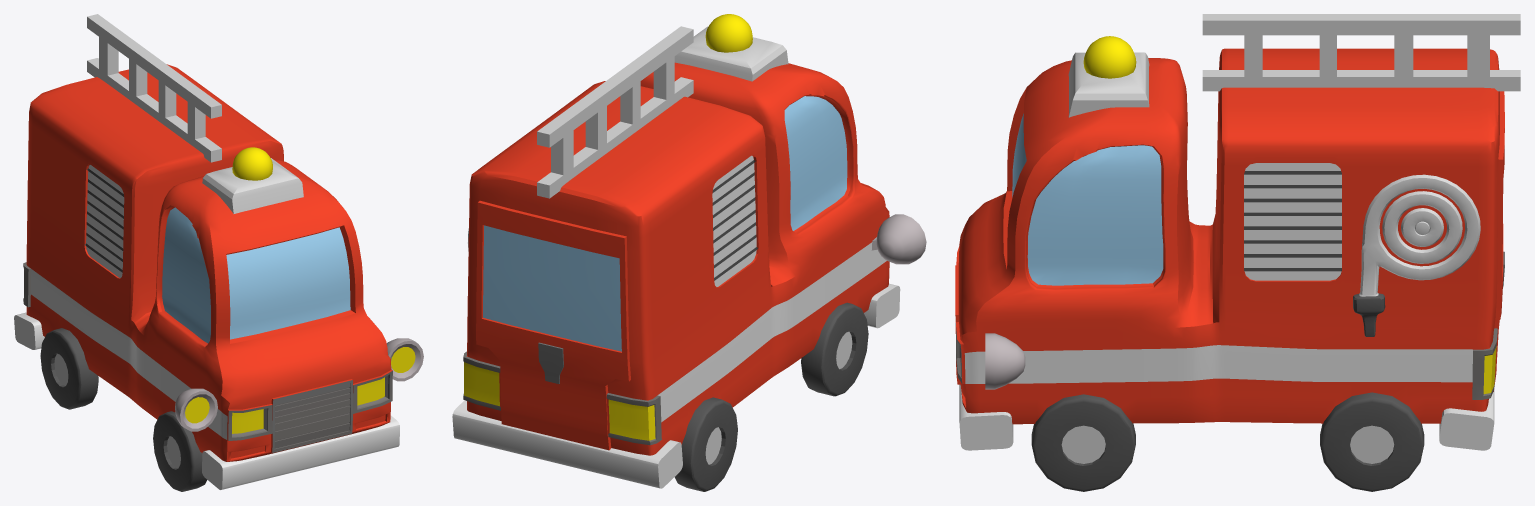
Rendered from pojarni.glb.
3 views of the same model, side by side, from view 1: azimuth 30°, elevation 25°; view 2: azimuth 150°, elevation 25°; view 3: azimuth 270°, elevation 25° (orthographic). The views are drawn at different scales.
Parts seen in each view (by area): view 1: pojarni; view 2: pojarni; view 3: pojarni.
Boxes of the visible parts, bbox=[...] form: pojarni: bbox=[14, 14, 423, 491]; pojarni: bbox=[452, 14, 926, 491]; pojarni: bbox=[955, 14, 1520, 491].
Bounding box in the file's own units: 2.93 × 3.75 × 4.59.
